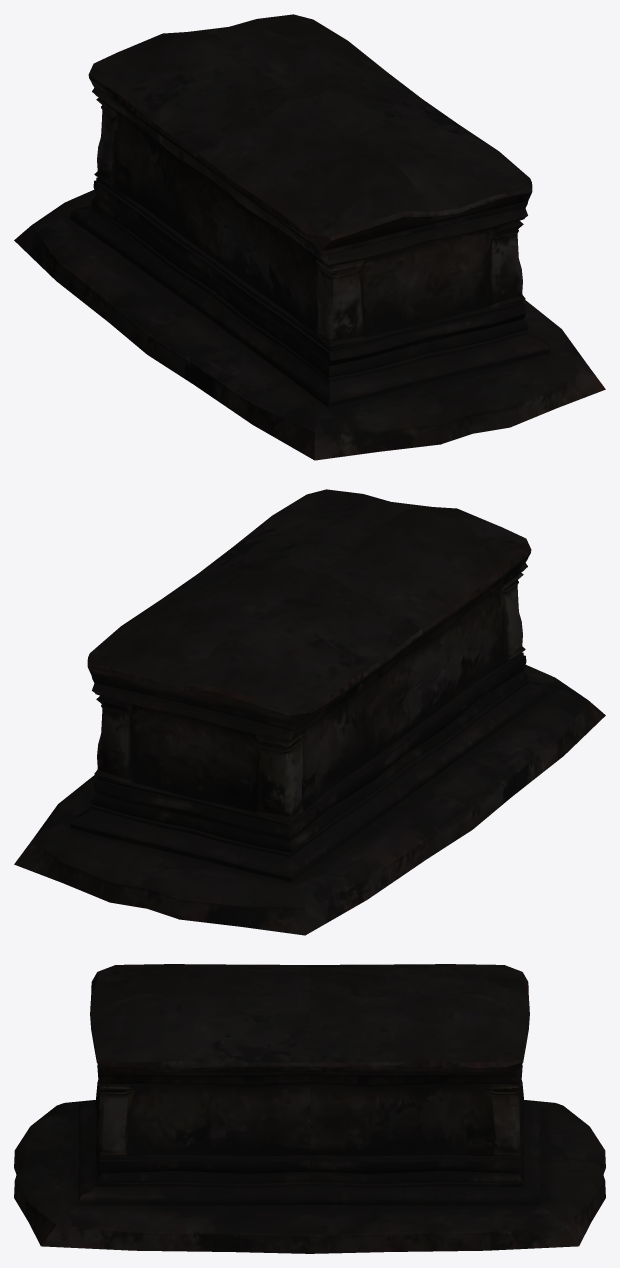
File: t_sarcofago.glb
3 renders of one model, top to bottom at view 1: azimuth 30°, elevation 25°; view 2: azimuth 150°, elevation 25°; view 3: azimuth 270°, elevation 25°, orthographic. The views are drawn at different scales.
Visible parts, largest first — view 1: kulma2_01 - Default_0; view 2: kulma2_01 - Default_0; view 3: kulma2_01 - Default_0.
Part boxes in pixels (bbox=[...]): kulma2_01 - Default_0: bbox=[14, 14, 605, 460]; kulma2_01 - Default_0: bbox=[14, 489, 605, 935]; kulma2_01 - Default_0: bbox=[14, 964, 605, 1253].
Size of the model in its own units: 1.25 by 0.8094 by 2.2.
Materials: 2 (2 with a texture image).
